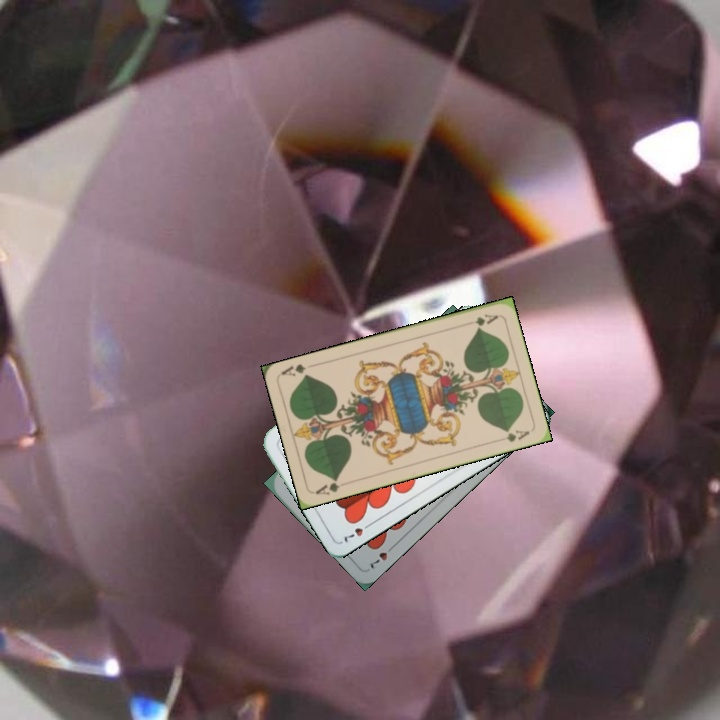GA: (460, 310, 501, 329), (311, 474, 342, 497)
H7: (366, 540, 398, 572), (340, 518, 375, 545)
